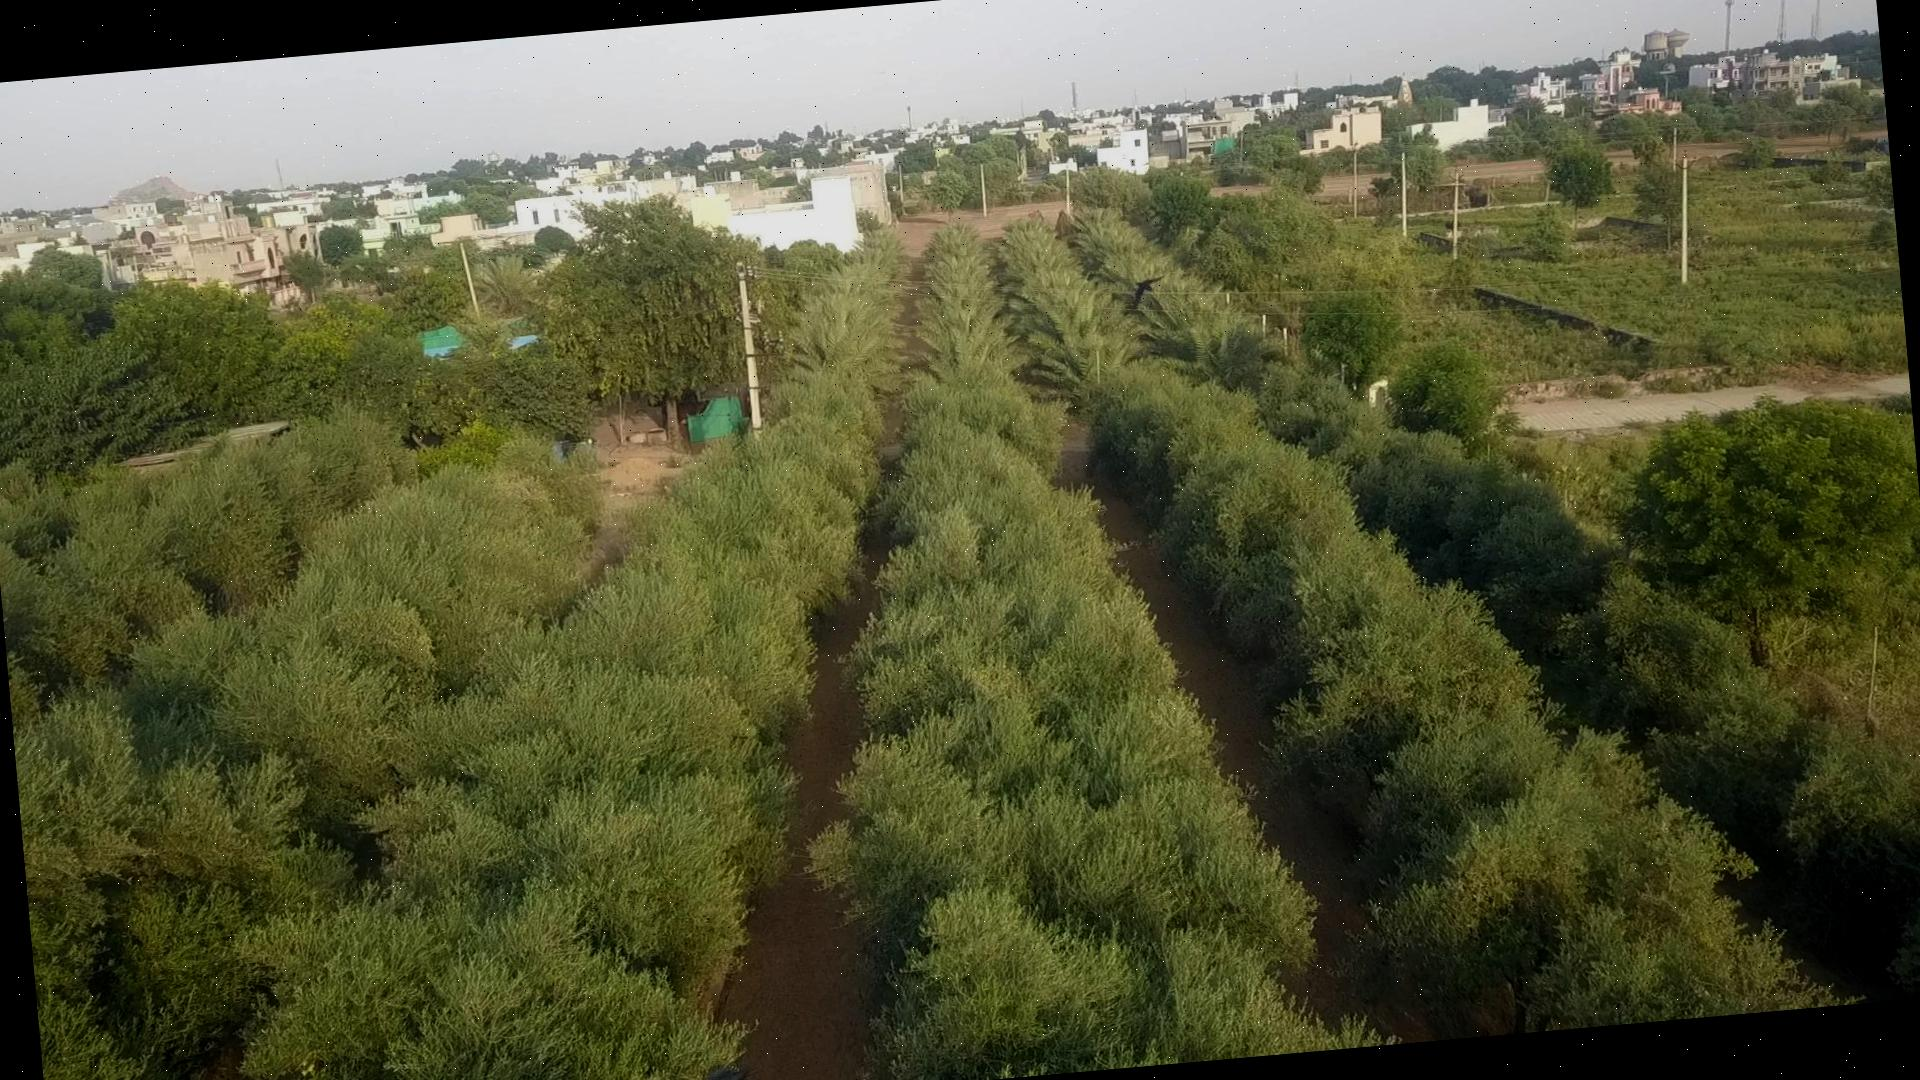canopy: (1087, 363, 1844, 1035), (284, 381, 877, 1080), (810, 371, 1361, 1080), (13, 469, 589, 1080), (1352, 433, 1920, 960)
road: (1059, 425, 1364, 1022), (716, 576, 878, 1080)
